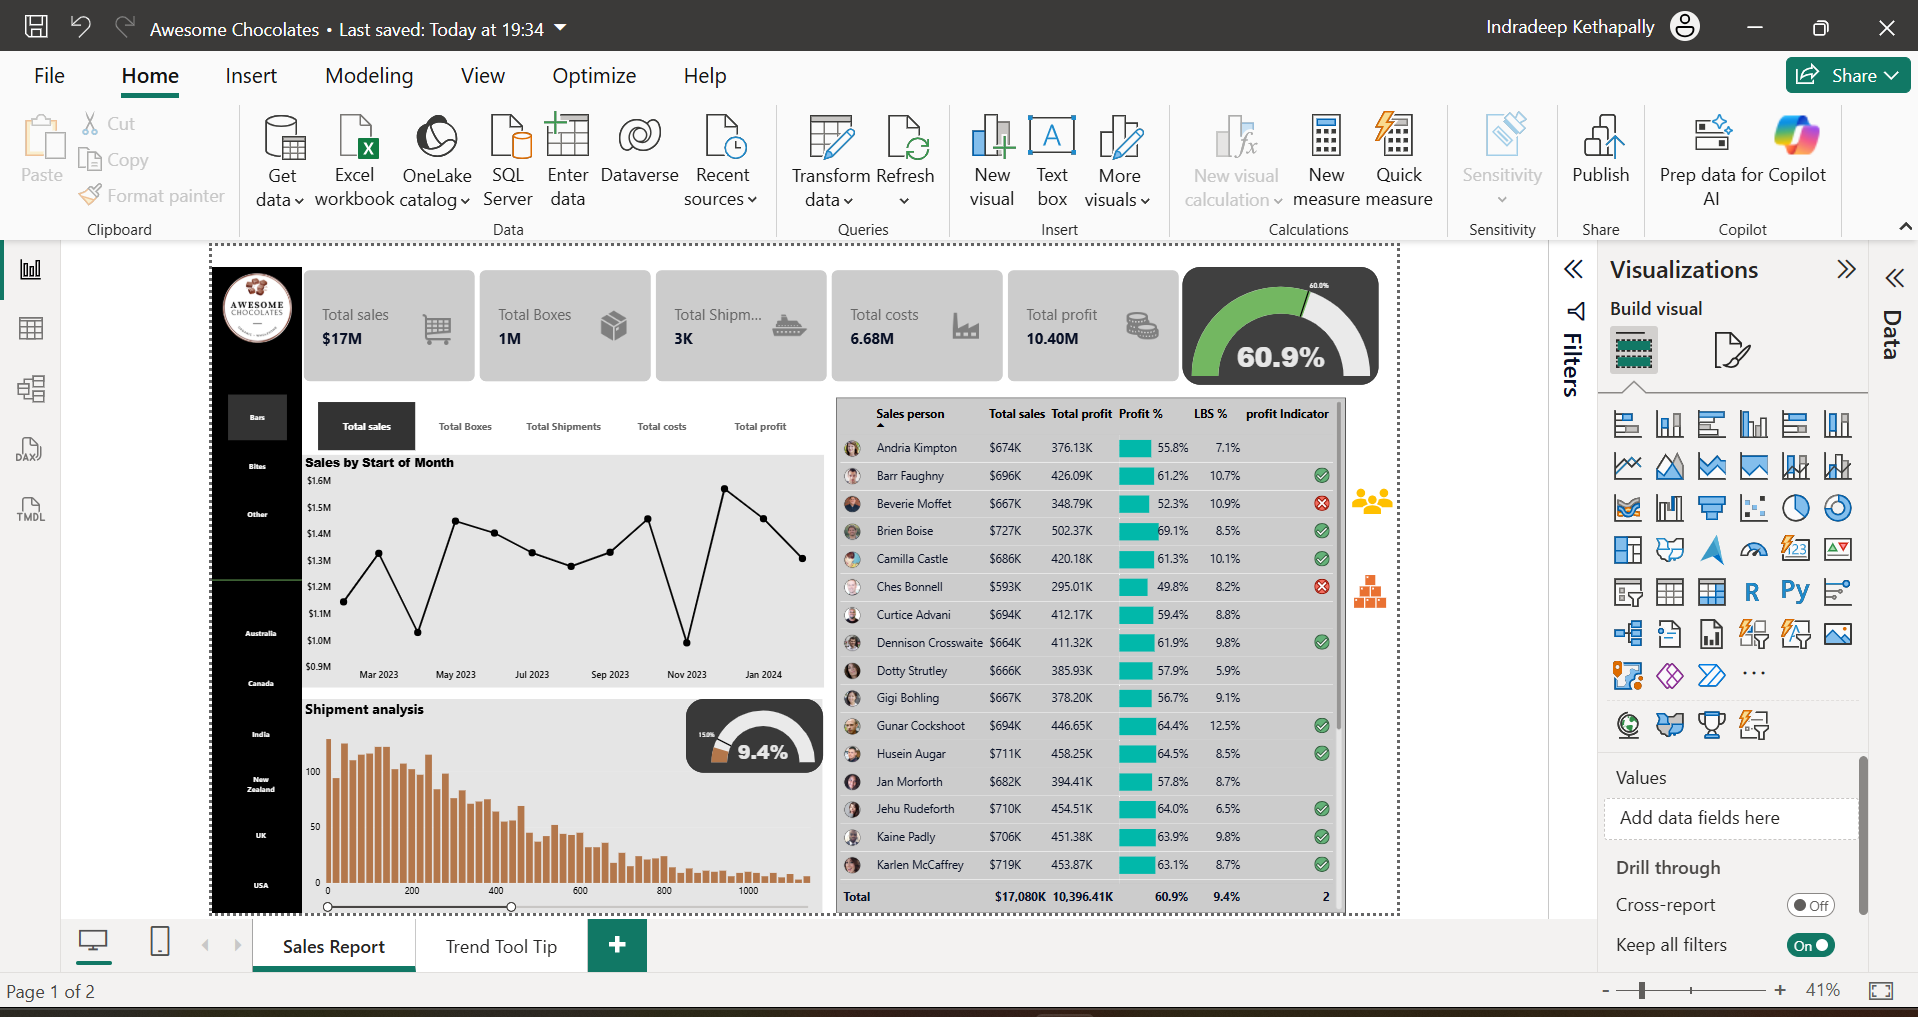

The dashboard page shown, as its layout file describes it:
{"tool":"powerbi","page":{"name":"Sales Report","canvas":[1920,1080],"ordinal":0},"visuals":[{"type":"shape","box":[0,34,145.7,1046.8],"z":0},{"type":"cardVisual","fields":{"Data":["_Measures (2).Total sales","_Measures (2).Total Boxes","_Measures (2).Total Shipments","_Measures (2).Total costs","_Measures (2).Total profit"]},"box":[144.1,34.2,1428.4,190.5],"z":1000},{"type":"gauge","fields":{"Y":["_Measures (2).Profit %"]},"box":[1572.5,34.2,317.4,190.5],"z":2000},{"type":"image","box":[12.5,35,122.5,132.5],"z":3000},{"type":"lineChart","title":"Sales by Start of Month","fields":{"Y":["_Measures (2).Total sales"],"Category":["calendar.Start of Month"]},"box":[145,337.5,845,377.5],"z":4000},{"type":"slicer","fields":{"Values":["Measure selector.Measure selector"]},"box":[145,245,845,92.5],"z":5000},{"type":"columnChart","title":"Shipment analysis","fields":{"Category":["shipments.Boxes (bins)"],"Y":["_Measures (2).Total Shipments"]},"box":[145,732.5,842.5,347.5],"z":6000},{"type":"gauge","fields":{"Y":["_Measures (2).LBS %"]},"box":[766.7,732.5,222.2,119.6],"z":7000},{"type":"tableEx","title":"People Details","fields":{"Values":["people.Picture","people.Sales person","_Measures (2).Total sales","_Measures (2).Total profit","_Measures (2).Profit %","_Measures (2).LBS %","_Measures (2).Profit Target Indicator"]},"box":[1010,245,825,835],"z":8000},{"type":"image","title":"People icon","box":[1835,350,85,127.5],"z":10000},{"type":"image","title":"Product icon","box":[1835,507.5,77.5,102.5],"z":11000},{"type":"slicer","fields":{"Values":["products.Category"]},"box":[0,232.5,145,245],"z":12000},{"type":"slicer","fields":{"Values":["shipments.Geography"]},"box":[12.5,580,132.5,500],"z":13000},{"type":"shape","box":[0,522.5,145,37.5],"z":14000}]}

Visuals, with their boxes on the page's 1920x1080 design canvas (x1, y1, x2, y2). These are canvas units, not pixel positions in the 1918x1017 screenshot, which may show the page scaled, cropped or inside an application window:
shape: {"left": 0, "top": 34, "right": 146, "bottom": 1081}
cardVisual - _Measures (2).Total sales x _Measures (2).Total Boxes: {"left": 144, "top": 34, "right": 1572, "bottom": 225}
gauge - _Measures (2).Profit %: {"left": 1572, "top": 34, "right": 1890, "bottom": 225}
image: {"left": 12, "top": 35, "right": 135, "bottom": 168}
"Sales by Start of Month" lineChart: {"left": 145, "top": 338, "right": 990, "bottom": 715}
slicer - Measure selector.Measure selector: {"left": 145, "top": 245, "right": 990, "bottom": 338}
"Shipment analysis" columnChart: {"left": 145, "top": 732, "right": 988, "bottom": 1080}
gauge - _Measures (2).LBS %: {"left": 767, "top": 732, "right": 989, "bottom": 852}
"People Details" tableEx: {"left": 1010, "top": 245, "right": 1835, "bottom": 1080}
"People icon" image: {"left": 1835, "top": 350, "right": 1920, "bottom": 478}
"Product icon" image: {"left": 1835, "top": 508, "right": 1912, "bottom": 610}
slicer - products.Category: {"left": 0, "top": 232, "right": 145, "bottom": 478}
slicer - shipments.Geography: {"left": 12, "top": 580, "right": 145, "bottom": 1080}
shape: {"left": 0, "top": 522, "right": 145, "bottom": 560}
